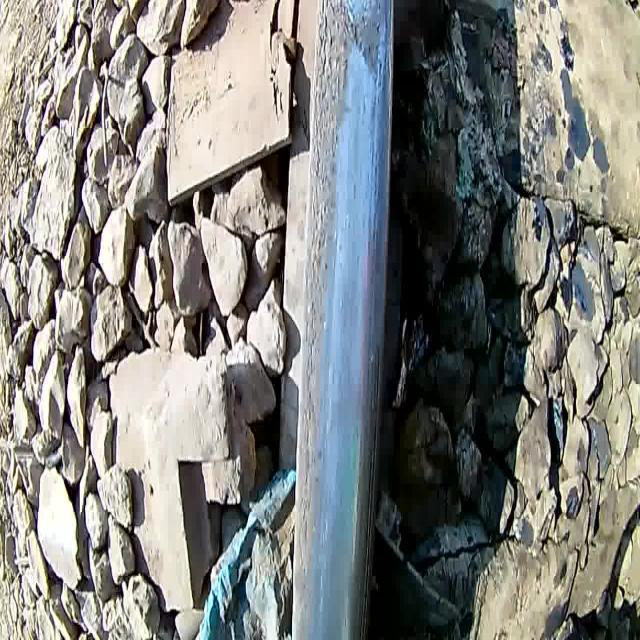Flakings: (286, 0, 356, 640)
Squats: (350, 0, 400, 107)
